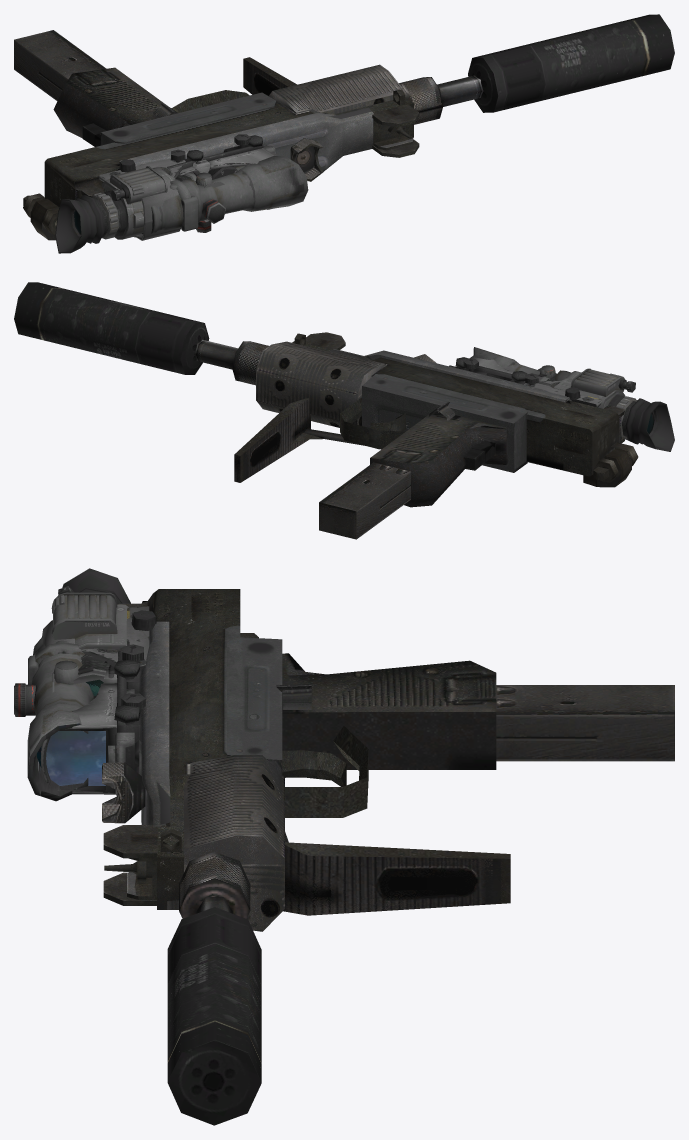
File: weapon_mini_uzi_LOD0.obj
3 renders of one model, top to bottom at view 1: azimuth 30°, elevation 25°; view 2: azimuth 150°, elevation 25°; view 3: azimuth 270°, elevation 25°, orthographic. The views are drawn at different scales.
Parts seen in each view (by area): view 1: mtl_weapon_mini_uzi, mtl_weapon_suppressor_b, mtl_weapon_acog_2, mtl_weapon_thermal_sight_2, mtl_weapon_mini_uzi_sight, mtl_weapon_red_dot_sight, mtl_weapon_eotech_2; view 2: mtl_weapon_mini_uzi, mtl_weapon_suppressor_b, mtl_weapon_thermal_sight_2, mtl_weapon_acog_2, mtl_weapon_red_dot_sight, mtl_weapon_mini_uzi_sight, mtl_weapon_eotech_2; view 3: mtl_weapon_mini_uzi, mtl_weapon_suppressor_b, mtl_weapon_acog_2, mtl_weapon_thermal_sight_2, mtl_weapon_red_dot_sight, mtl_weapon_mini_uzi_sight, mtl_weapon_reflex_lens, mtl_weapon_eotech_2.
Boxes of the visible parts, x1,y1,x2,y2 form: mtl_weapon_mini_uzi: [14, 30, 483, 240]; mtl_weapon_suppressor_b: [468, 14, 674, 112]; mtl_weapon_acog_2: [151, 135, 308, 233]; mtl_weapon_thermal_sight_2: [55, 159, 225, 253]; mtl_weapon_mini_uzi_sight: [75, 104, 419, 199]; mtl_weapon_red_dot_sight: [167, 134, 278, 209]; mtl_weapon_eotech_2: [99, 158, 185, 240]; mtl_weapon_mini_uzi: [194, 333, 638, 539]; mtl_weapon_suppressor_b: [14, 282, 209, 374]; mtl_weapon_thermal_sight_2: [537, 368, 674, 451]; mtl_weapon_acog_2: [449, 347, 581, 383]; mtl_weapon_red_dot_sight: [455, 354, 550, 385]; mtl_weapon_mini_uzi_sight: [306, 332, 624, 443]; mtl_weapon_eotech_2: [524, 379, 602, 407]; mtl_weapon_mini_uzi: [102, 589, 674, 931]; mtl_weapon_suppressor_b: [167, 907, 261, 1125]; mtl_weapon_acog_2: [14, 636, 139, 801]; mtl_weapon_thermal_sight_2: [51, 568, 156, 692]; mtl_weapon_red_dot_sight: [40, 644, 145, 794]; mtl_weapon_mini_uzi_sight: [103, 601, 157, 905]; mtl_weapon_reflex_lens: [46, 731, 105, 785]; mtl_weapon_eotech_2: [42, 606, 149, 670].
Bounding box in the file's own units: 55.26 × 6.54 × 31.89.
